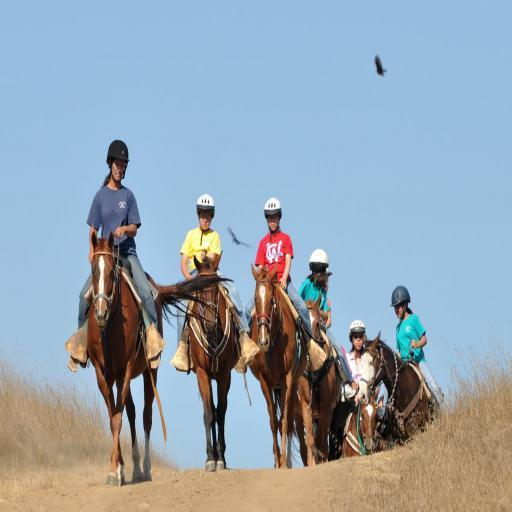horse: (86, 228, 236, 488), (246, 263, 309, 468), (188, 254, 242, 472), (278, 291, 344, 465), (356, 330, 441, 444), (341, 393, 383, 459)
